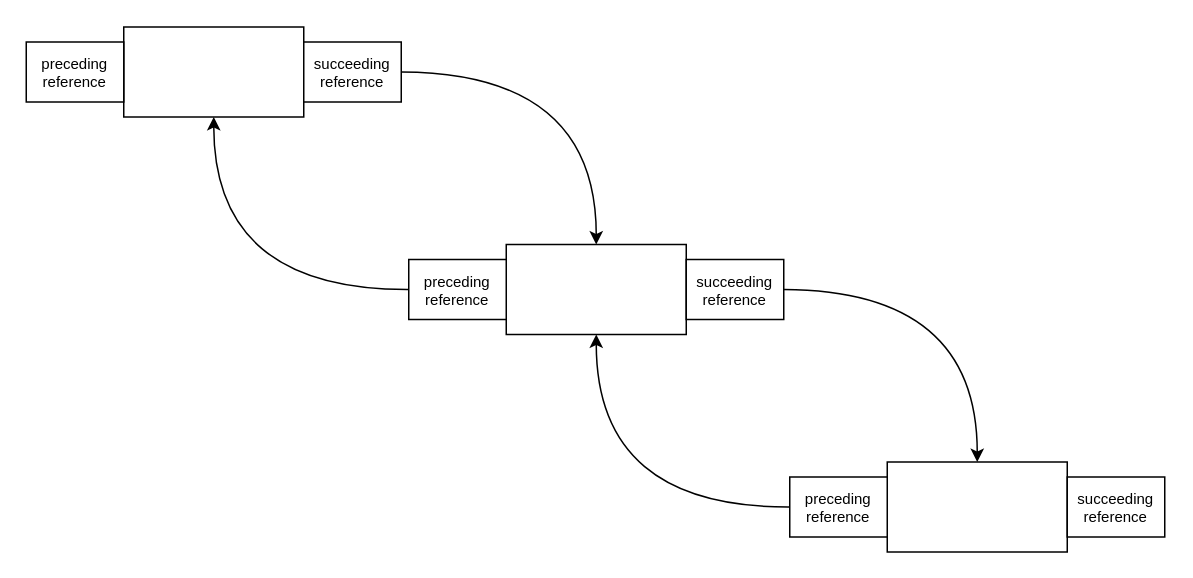
The diagram is 1193 pixels wide and 578 high, and some of its shapes have lost their labels. Here are the shapes that lost their labels. From the top down, the centre of each, then its label:
At [213,71]: "cat".
At [595,288]: "dog".
At [976,506]: "turtle".
